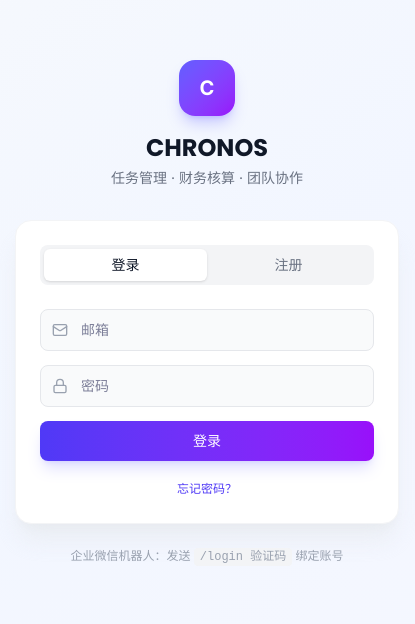
Test: LoginPage · 注册模式真实校验 › 弱密码 (无大写) 被真实内联密码正则拦截
Click the button "注册" at (288, 264), box [207,248,370,280]
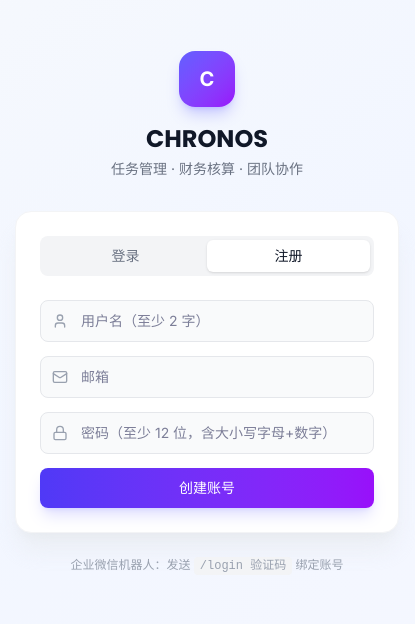
Type "ft-user" into the field with placeholder "用户名（至少 2 字）" at (207, 320), box [40,300,374,342]
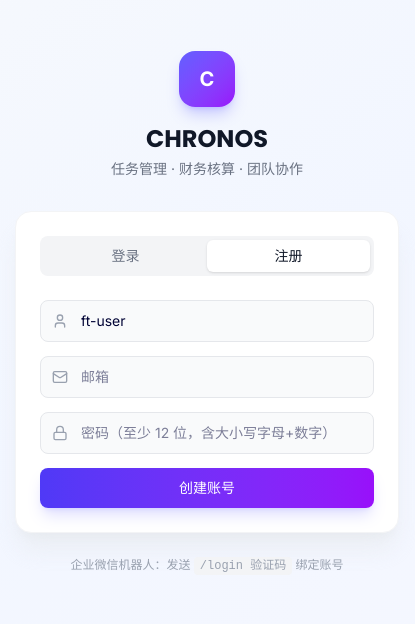
Type "user@example.com" into the field with placeholder "邮箱" at (207, 376), box [40,356,374,398]
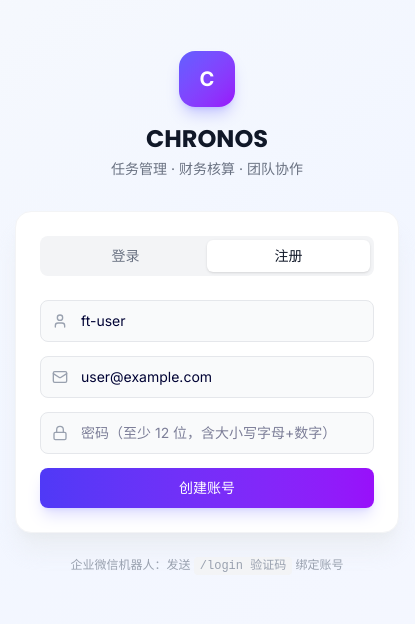
Type "abcdefgh1234" into the password field with placeholder "密码（至少 12 位，含大小写字母+数字）" at (207, 432), box [40,412,374,454]
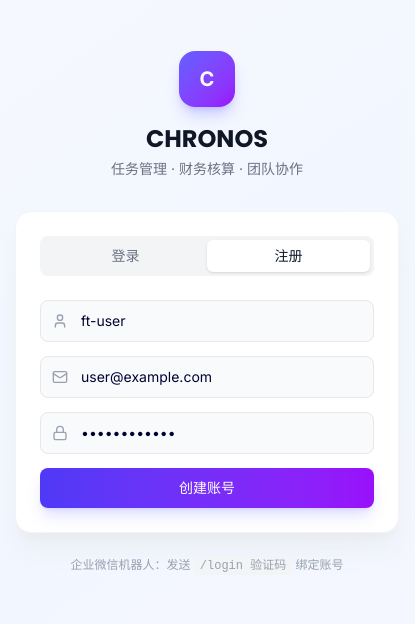
Submit the form, box [40,300,374,508]
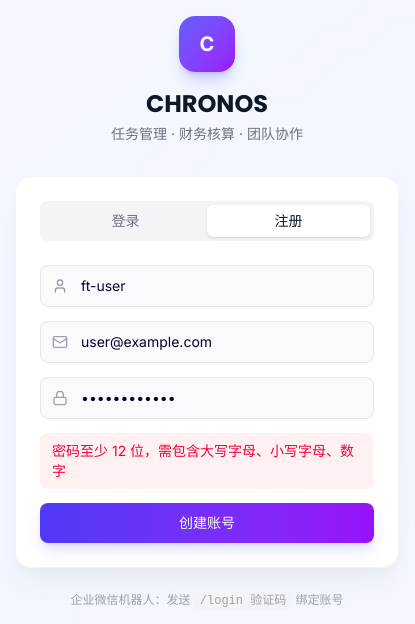
Result: the text "密码至少 12 位，需包含大写字母、小写字母、数字" is shown at [52,440,362,480]
